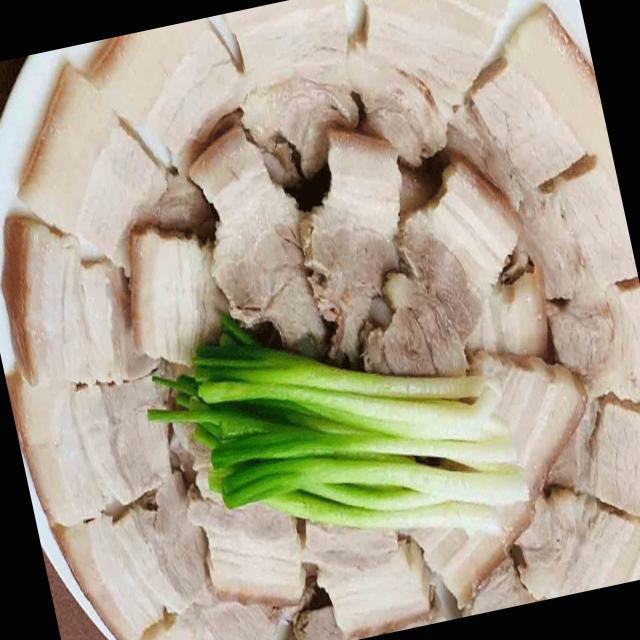thit luoc: (425, 8, 640, 599), (0, 20, 247, 387), (149, 468, 640, 640), (189, 128, 520, 374), (10, 378, 207, 640), (224, 0, 508, 175)
